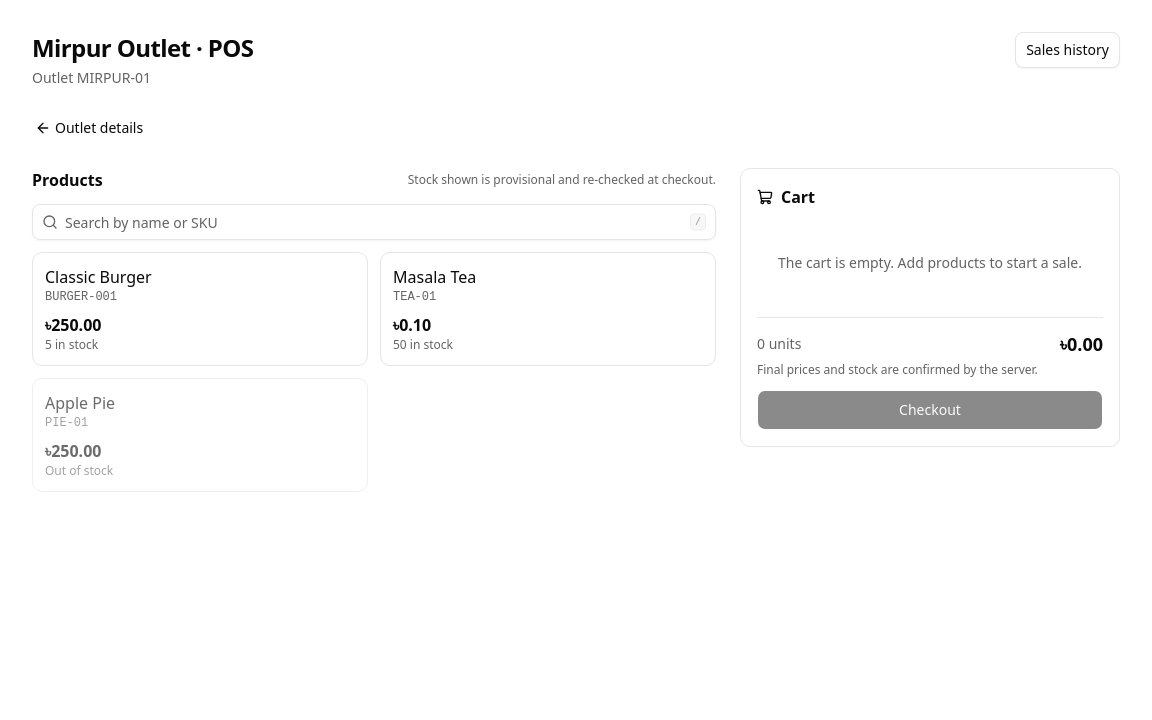
Test: checkout › keeps the same request id and payload across an uncertain failure and a manual retry
Click the button with aria-label "Add Classic Burger,": (98, 277) [32, 252, 368, 366]
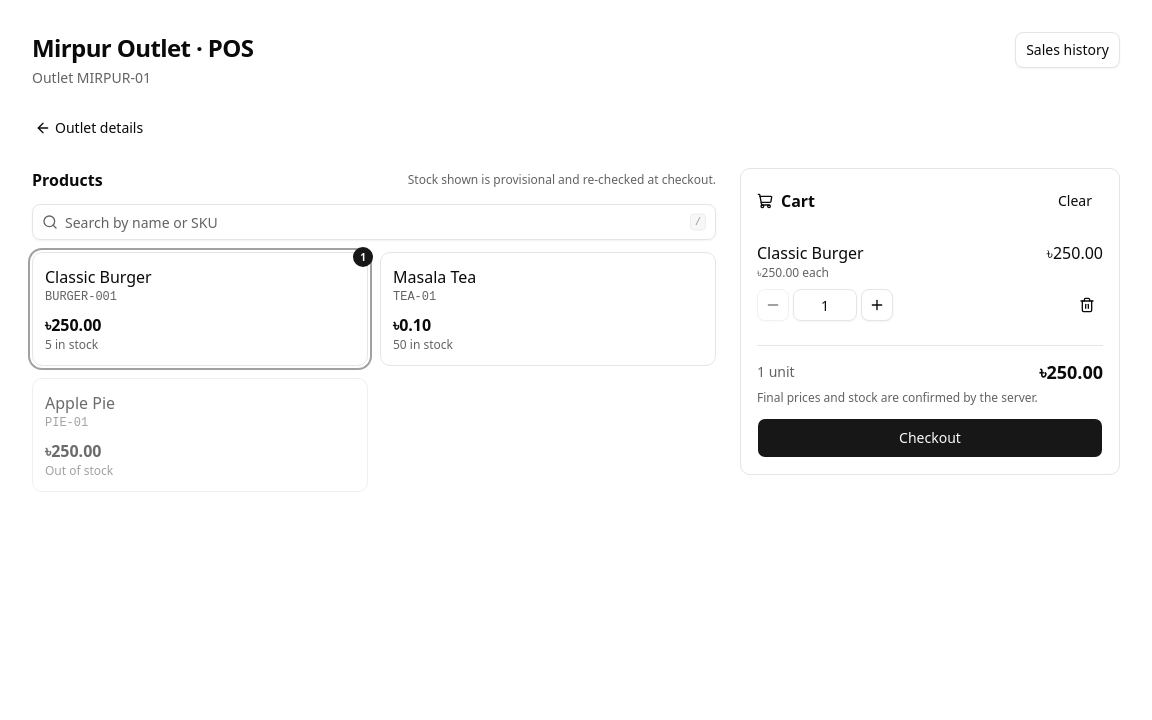
Click the button with aria-label "Add Classic Burger,": (98, 277) [32, 252, 368, 366]
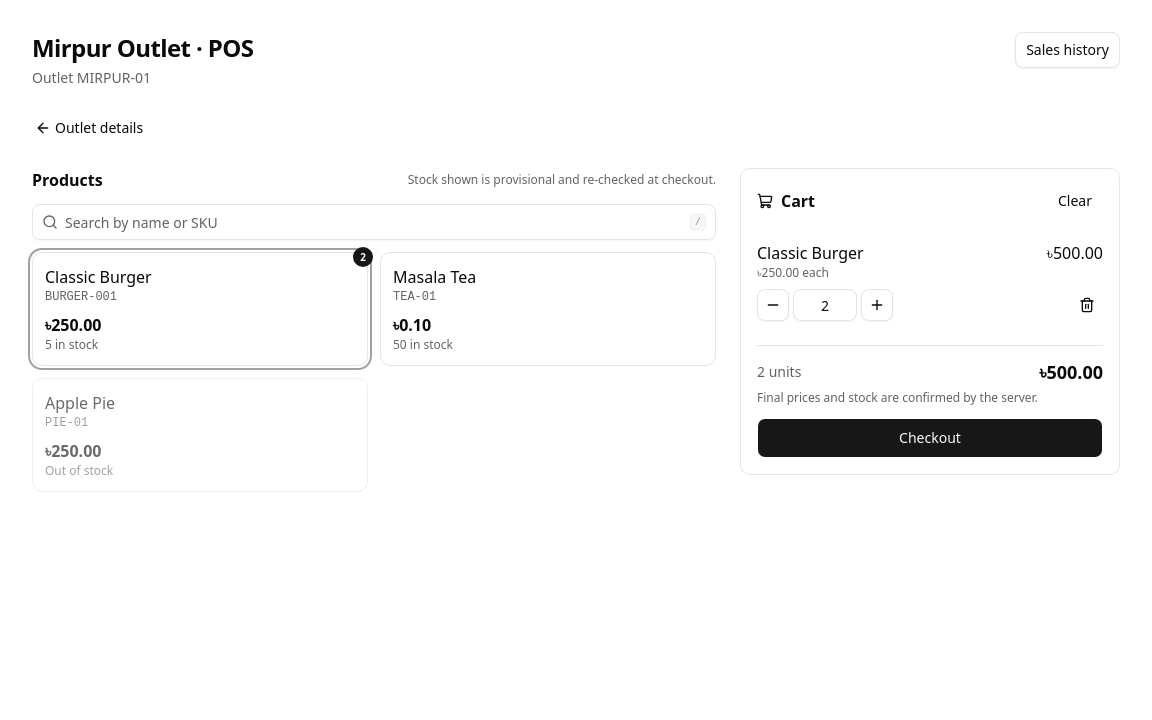
Click the button "Checkout": (930, 438) [757, 418, 1103, 458]
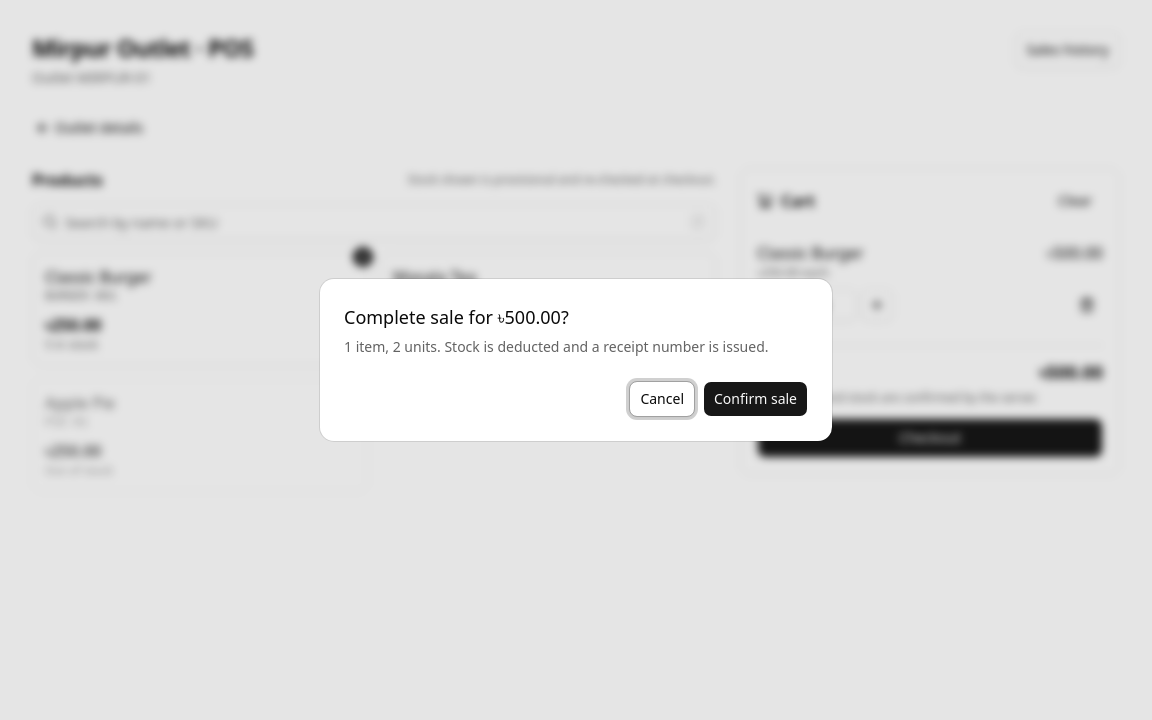
Click the button "Confirm sale": (756, 399) [703, 381, 808, 417]
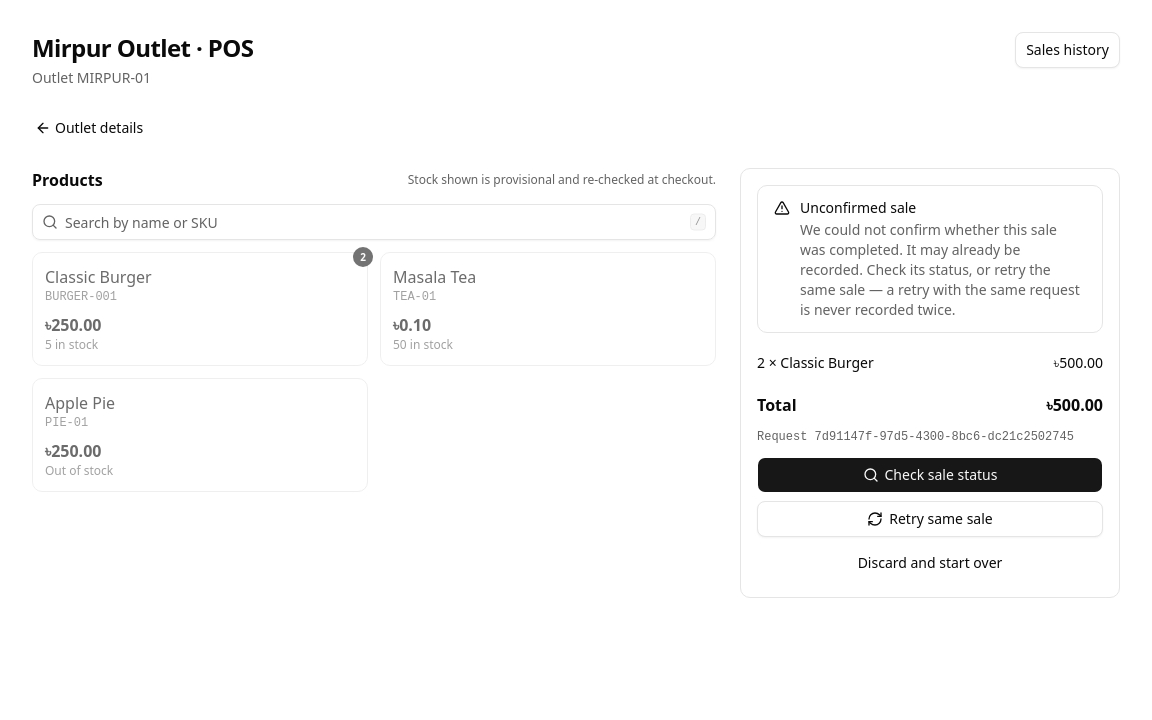
Expected: the text "never recorded twice" is shown, [800, 220, 1080, 319]
Click the button "Retry same sale": (930, 519) [757, 501, 1103, 537]
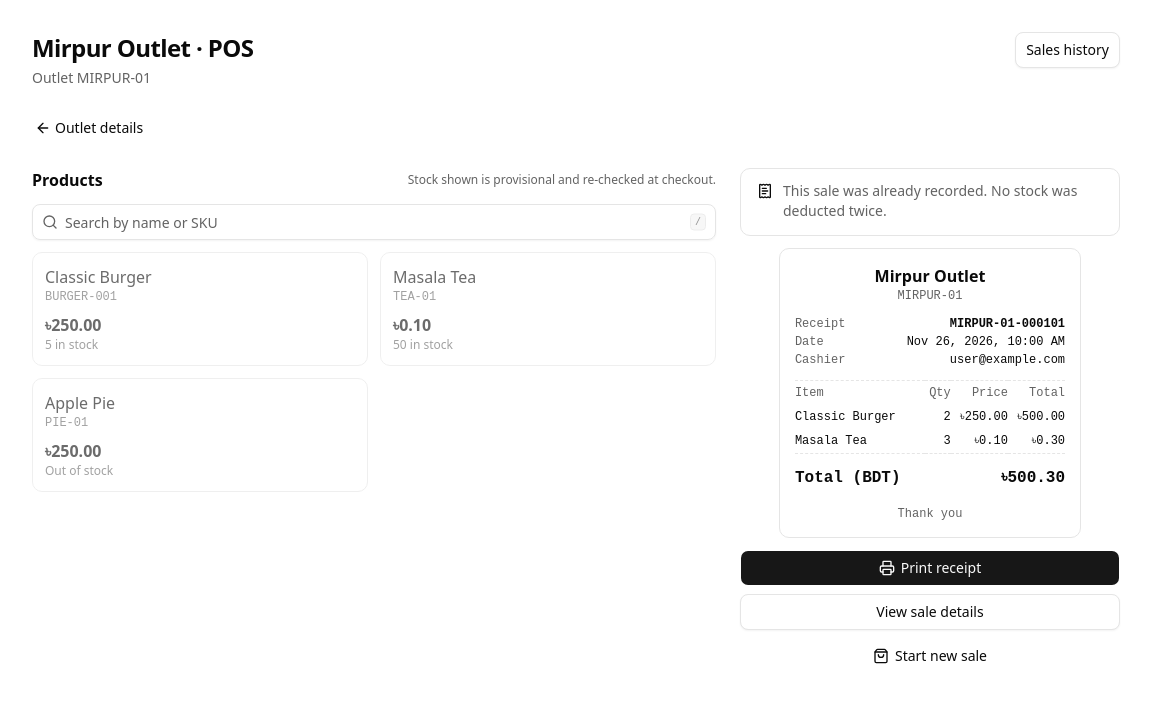
Expected: the text "This sale was already recorded. No stock was deducted twice." is shown, [783, 181, 1103, 221]
